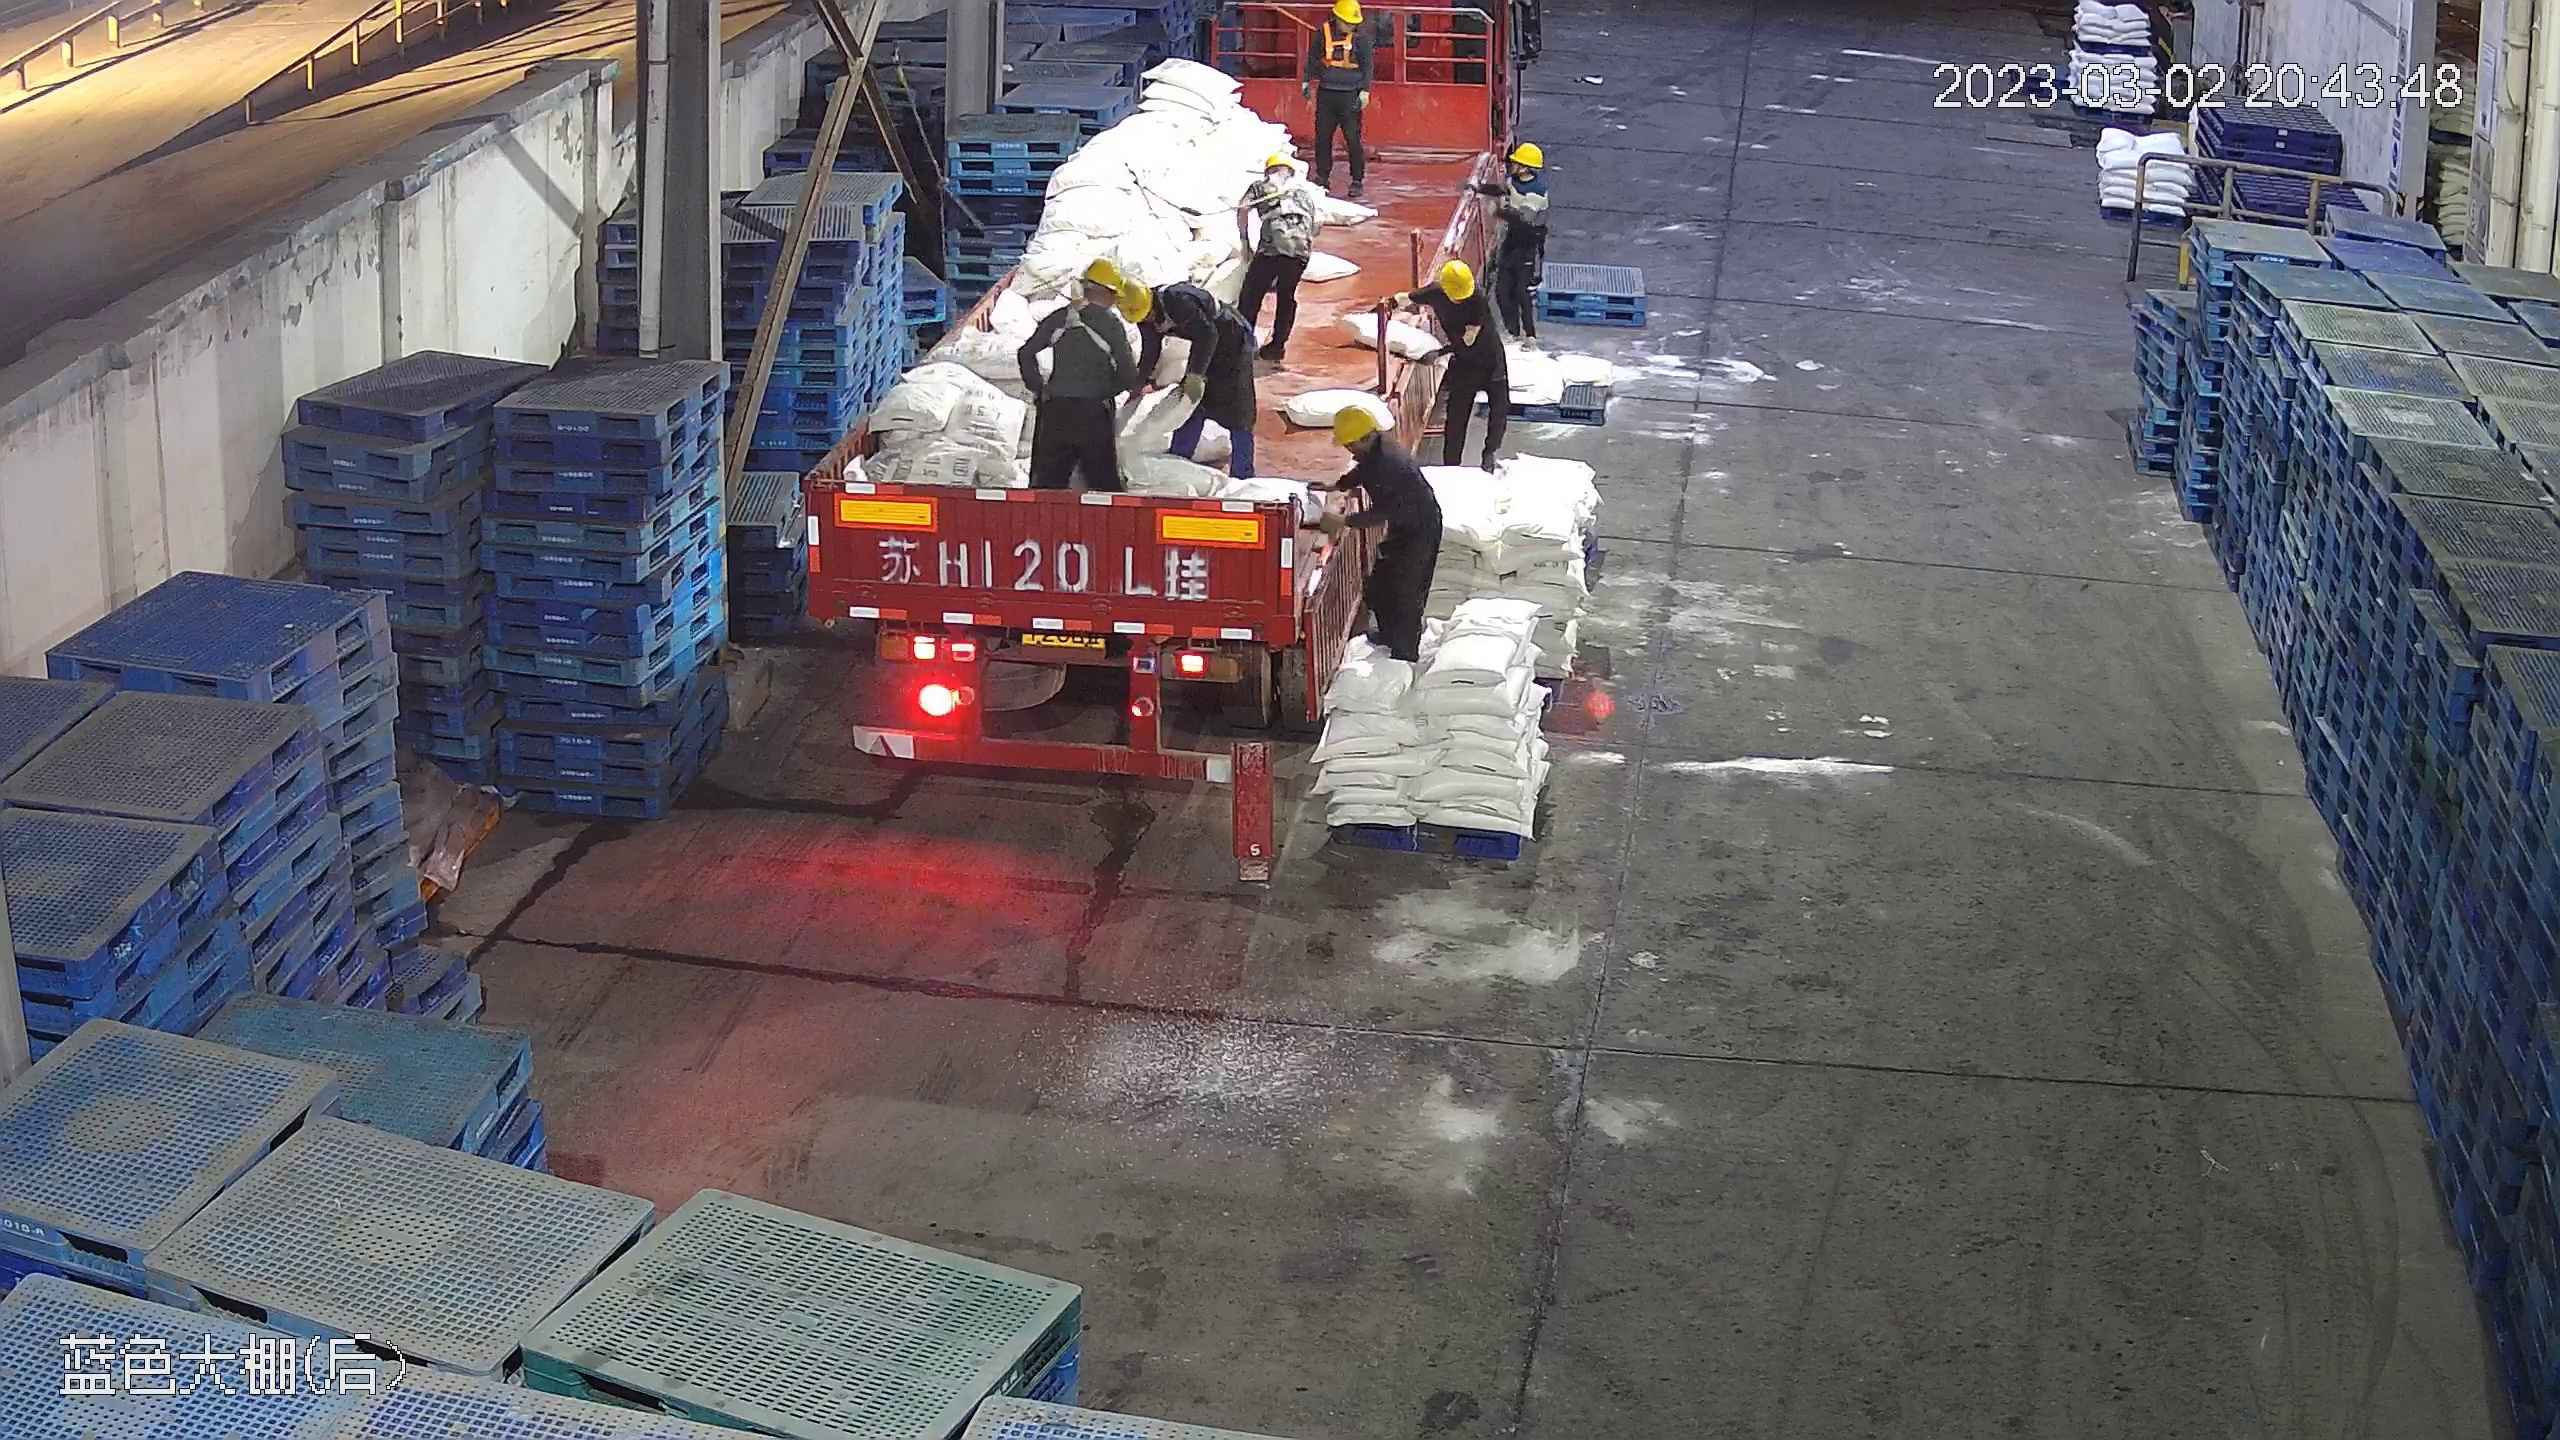belt: (1152, 264, 1226, 343), (1033, 297, 1115, 365), (1247, 180, 1301, 242), (1313, 20, 1364, 72), (1320, 31, 1358, 67)
head: (1040, 265, 1141, 353), (1326, 404, 1418, 495), (1412, 256, 1499, 330), (1119, 272, 1208, 342), (1236, 150, 1308, 219), (1485, 140, 1546, 205), (1309, 1, 1368, 51)
helmet: (1110, 269, 1158, 328), (1328, 404, 1380, 447), (1078, 256, 1126, 299), (1434, 258, 1475, 304), (1510, 141, 1542, 169), (1258, 151, 1292, 175), (1333, 1, 1363, 23)
people: (1314, 404, 1443, 670), (1114, 265, 1263, 470), (1016, 260, 1142, 494), (1379, 255, 1511, 469), (1469, 139, 1554, 352), (1230, 149, 1316, 363), (1297, 3, 1380, 201)
truck: (785, 21, 1508, 782)
